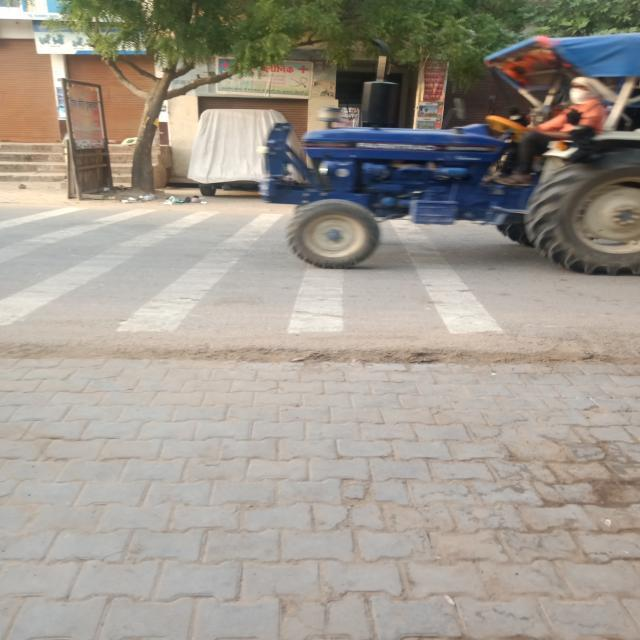Tratores - v5 YOLO V8L 2024-11-13: (257, 24, 640, 287)
